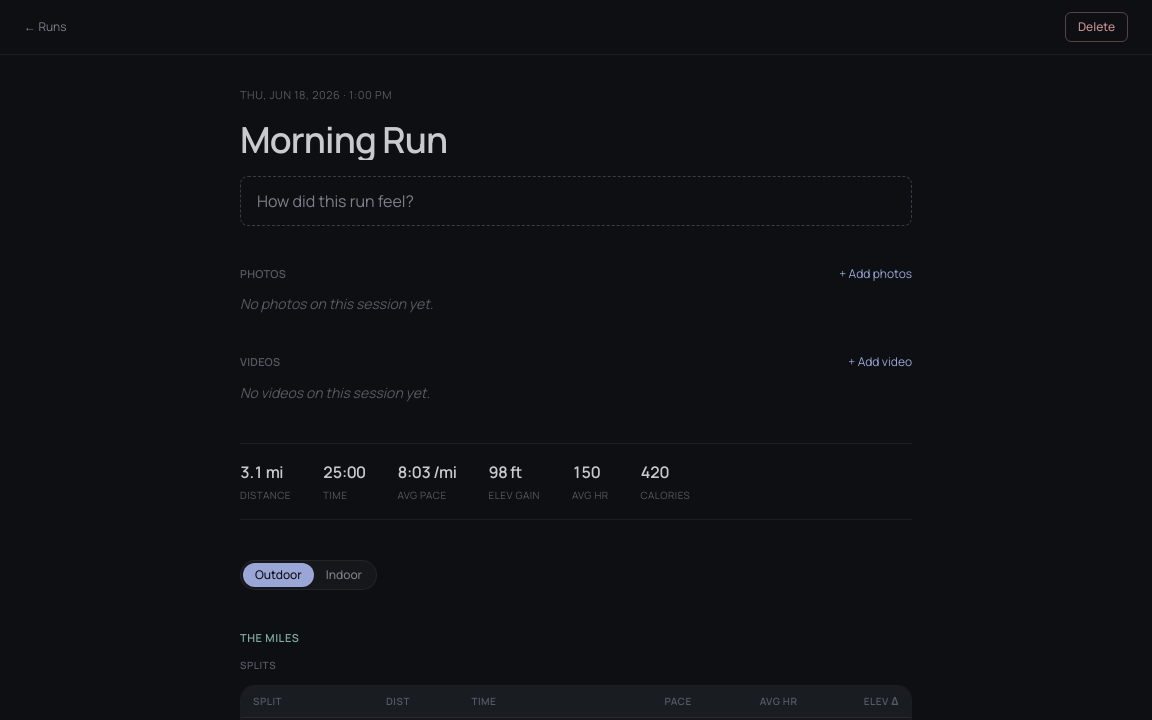
Test: RunningDetailPage — notes › rolls back and toasts when the note save fails
Click the button "How did this run feel?": (335, 200) [240, 176, 912, 226]
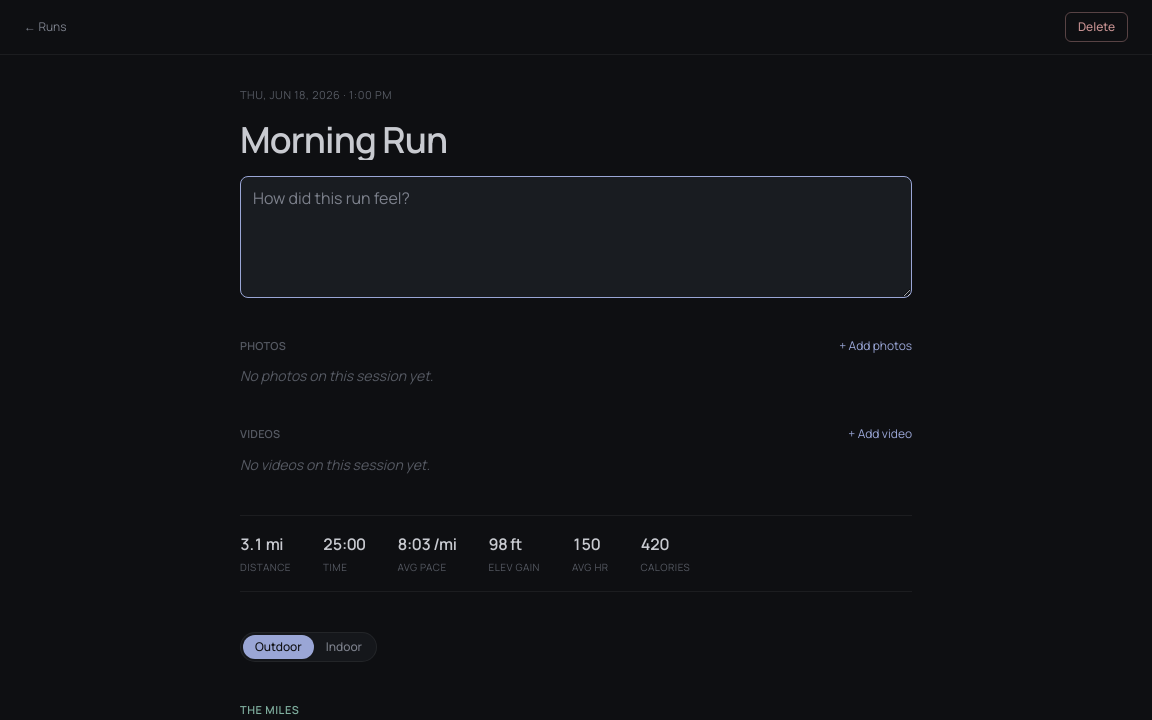
In the text box with placeholder "How did this run feel?": (576, 236) [240, 176, 912, 298], type "Rolled back"
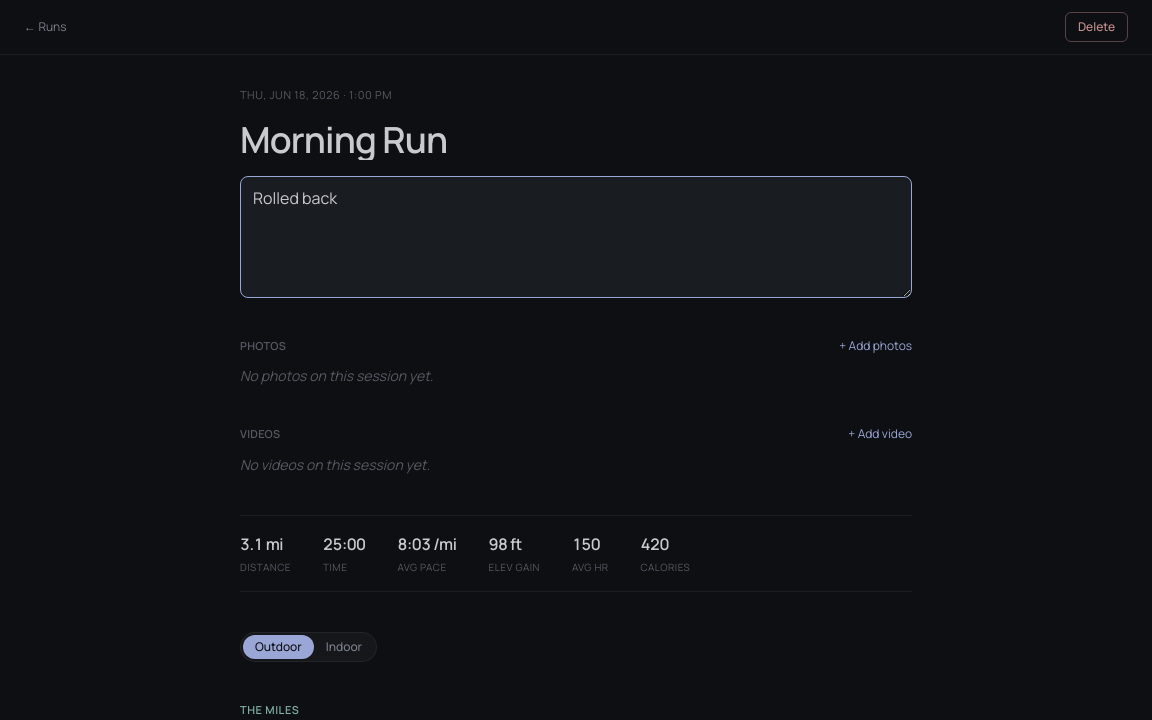
Press Enter in the text box with placeholder "How did this run feel?", box [240, 176, 912, 298]
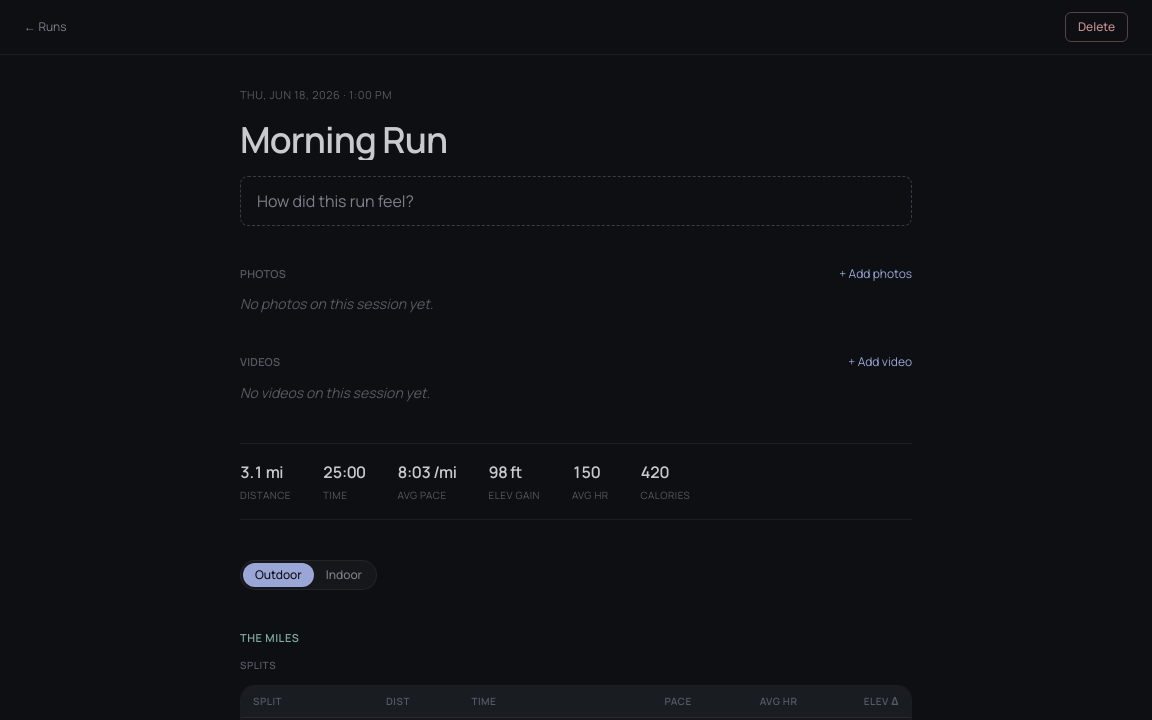
Expected: the text "Rolled back" is not shown
Expected: the button "How did this run feel?" is shown, [240, 176, 912, 226]
